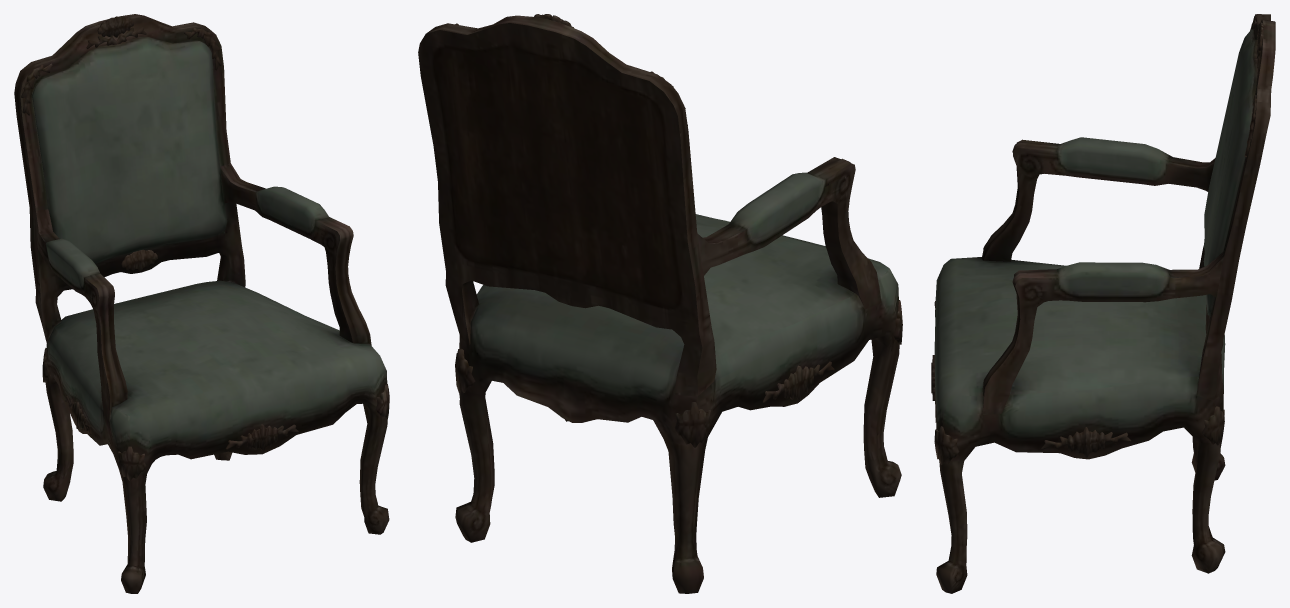
File: GreenChair_01.glb
3 views of the same model, side by side, from view 1: azimuth 30°, elevation 25°; view 2: azimuth 150°, elevation 25°; view 3: azimuth 270°, elevation 25° (orthographic). The views are drawn at different scales.
Parts seen in each view (by area): view 1: GreenChair_01; view 2: GreenChair_01; view 3: GreenChair_01.
Part boxes in pixels (bbox=[...]): GreenChair_01: bbox=[14, 14, 389, 593]; GreenChair_01: bbox=[418, 14, 902, 593]; GreenChair_01: bbox=[931, 14, 1275, 593].
Size of the model in its own units: 0.6732 by 1.06 by 0.6644.
1 material, 1 textured.
